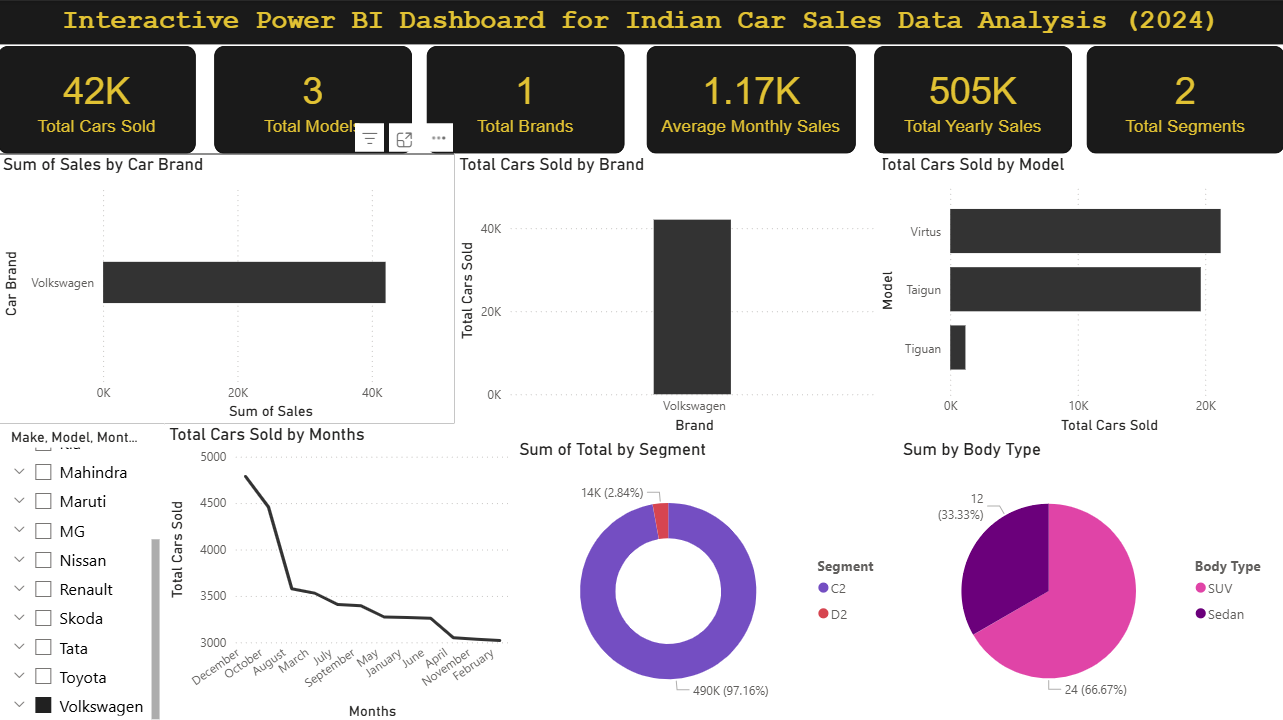

Layout of this report page (visuals, bound fields, positions):
{"tool":"powerbi","page":{"name":"Page 1","canvas":[1280,720],"ordinal":0},"visuals":[{"type":"card","fields":{"Values":["Sheet1.Total Cars Sold"]},"box":[0,44.8,196.5,107],"z":0},{"type":"card","fields":{"Values":["Sheet1.Total Models"]},"box":[215.2,44.8,196.5,107],"z":1},{"type":"card","fields":{"Values":["Sheet1.Total Brands"]},"box":[426.7,44.8,196.5,107],"z":2},{"type":"card","fields":{"Values":["Car Sales.Average Monthly Sales"]},"box":[645.6,44.8,207.7,107],"z":3},{"type":"card","fields":{"Values":["Car Sales.Total Yearly Sales"]},"box":[872,44.8,196.5,107],"z":4},{"type":"card","fields":{"Values":["Car Sales.Total Segments"]},"box":[1083.4,44.8,196.5,107],"z":5},{"type":"clusteredBarChart","fields":{"Category":["Car Sales.Make"],"Y":["Sum(Car Sales.Sales)"]},"box":[0,151.8,454,269.9],"z":6},{"type":"pieChart","fields":{"Category":["Car Sales.Body Type"],"Y":["CountNonNull(Car Sales.Total)"]},"box":[895.7,435.4,384.4,284.9],"z":7},{"type":"donutChart","fields":{"Category":["Car Sales.Segment"],"Y":["Sum(Car Sales.Total)"]},"box":[513.8,435.4,381.9,284.9],"z":8},{"type":"barChart","fields":{"Category":["Car Sales.Model"],"Y":["Car Sales.Total Cars Sold"]},"box":[872,151.8,408,283.6],"z":10},{"type":"slicer","fields":{"Values":["Car Sales.Make","Car Sales.Model","Car Sales.Months","Car Sales.Body Type","Car Sales.Segment"]},"box":[0,420.5,165.4,299.8],"z":11},{"type":"lineChart","fields":{"Y":["Car Sales.Total Cars Sold"],"Category":["Car Sales.Months"]},"box":[165.4,420.5,348.3,299.8],"z":12},{"type":"lineClusteredColumnComboChart","fields":{"Y":["Car Sales.Total Cars Sold"],"Category":["Car Sales.Make"]},"box":[454,151.8,426.7,283.6],"z":13},{"type":"textbox","box":[0,0,1280,43.5],"z":14}]}

Visuals, with their boxes in screenshot pixels (x1, y1, x2, y2):
card - Sheet1.Total Cars Sold: left=0, top=42, right=187, bottom=152
card - Sheet1.Total Models: left=206, top=42, right=407, bottom=152
card - Sheet1.Total Brands: left=422, top=42, right=622, bottom=152
card - Car Sales.Average Monthly Sales: left=645, top=42, right=857, bottom=152
card - Car Sales.Total Yearly Sales: left=876, top=42, right=1077, bottom=152
card - Car Sales.Total Segments: left=1092, top=42, right=1282, bottom=152
clusteredBarChart - Car Sales.Make x Sum(Car Sales.Sales): left=0, top=152, right=450, bottom=427
pieChart - Car Sales.Body Type x CountNonNull(Car Sales.Total): left=900, top=441, right=1282, bottom=719
donutChart - Car Sales.Segment x Sum(Car Sales.Total): left=511, top=441, right=900, bottom=719
barChart - Car Sales.Model x Car Sales.Total Cars Sold: left=876, top=152, right=1282, bottom=441
slicer - Car Sales.Make x Car Sales.Model: left=0, top=426, right=155, bottom=719
lineChart - Car Sales.Total Cars Sold x Car Sales.Months: left=155, top=426, right=511, bottom=719
lineClusteredColumnComboChart - Car Sales.Total Cars Sold x Car Sales.Make: left=450, top=152, right=885, bottom=441
textbox: left=0, top=0, right=1282, bottom=41
